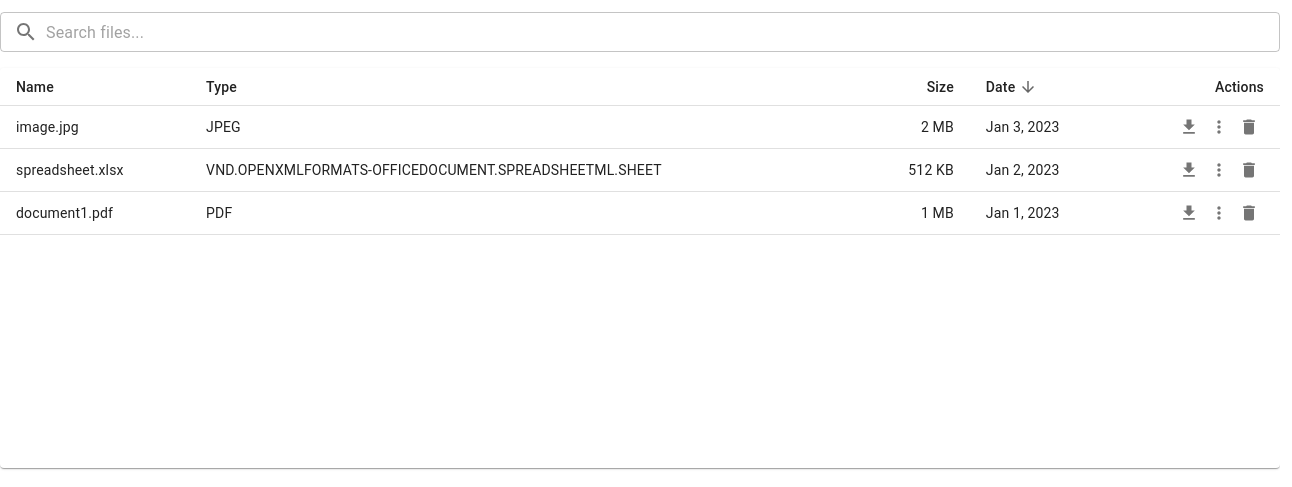
Test case: FileList Component › filters files by search term
# Type in search box
Step 1. Type "pdf" into the field with placeholder "Search files..." → (663, 32), box [46,12,1280,52]
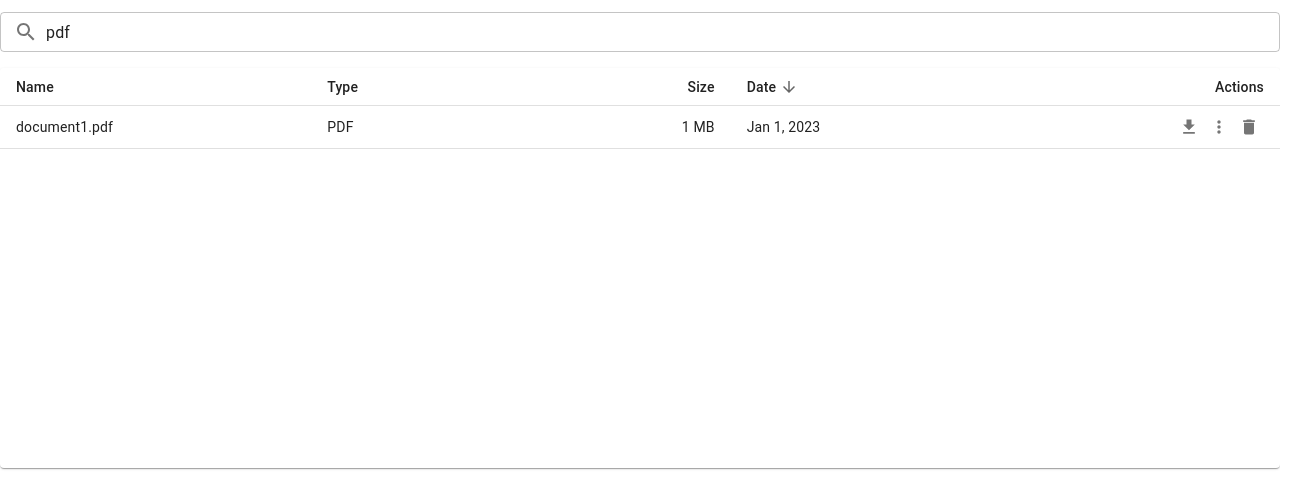
Expected: the text "document1.pdf" is shown, [16,119,113,135]
Expected: the text "spreadsheet.xlsx" is gone
Expected: the text "image.jpg" is gone
# Clear search
Step 2. Clear the field with placeholder "Search files..." → (663, 32), box [46,12,1280,52]
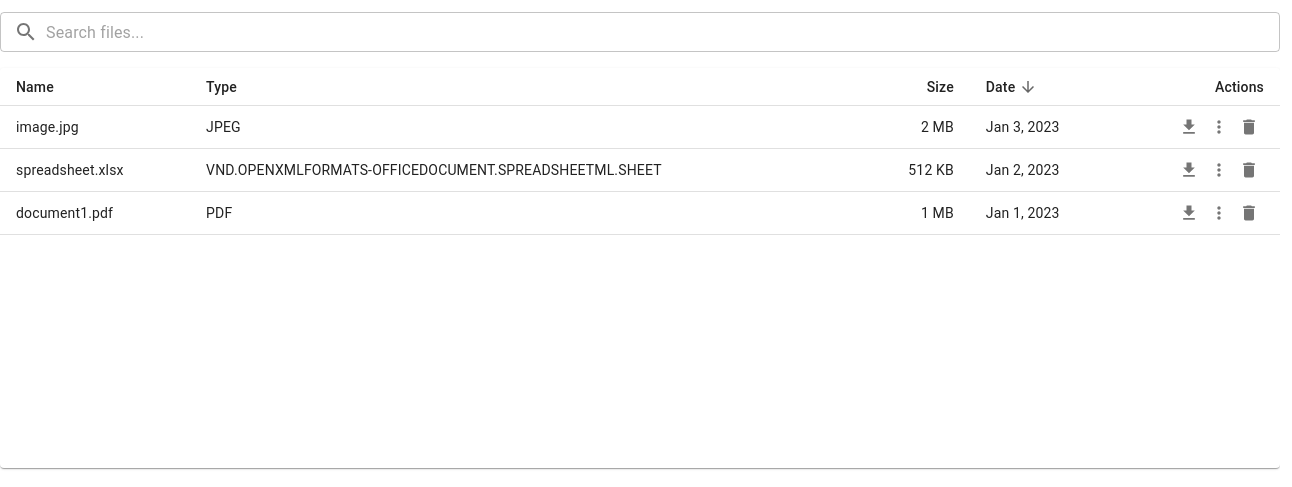
Expected: the text "document1.pdf" is shown, [16,205,113,221]
Expected: the text "spreadsheet.xlsx" is shown, [16,162,124,178]
Expected: the text "image.jpg" is shown, [16,119,79,135]
